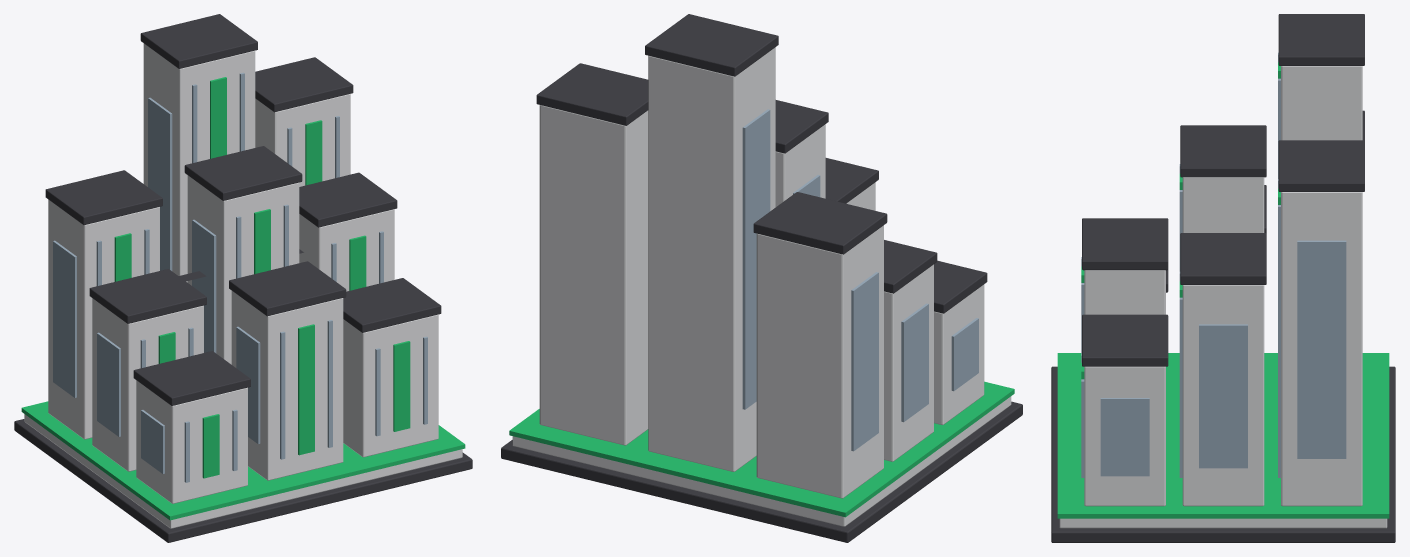
3 renders of one model, left to right at view 1: azimuth 30°, elevation 25°; view 2: azimuth 150°, elevation 25°; view 3: azimuth 270°, elevation 25°, orthographic. The views are drawn at different scales.
Parts seen in each view (by area): view 1: grid; view 2: grid; view 3: grid.
Part boxes in pixels (<box>): grid: <box>14,14,472,542</box>; grid: <box>501,14,1022,542</box>; grid: <box>1051,14,1395,542</box>.
Size of the model in its own units: 9.6 by 11.45 by 8.4.
